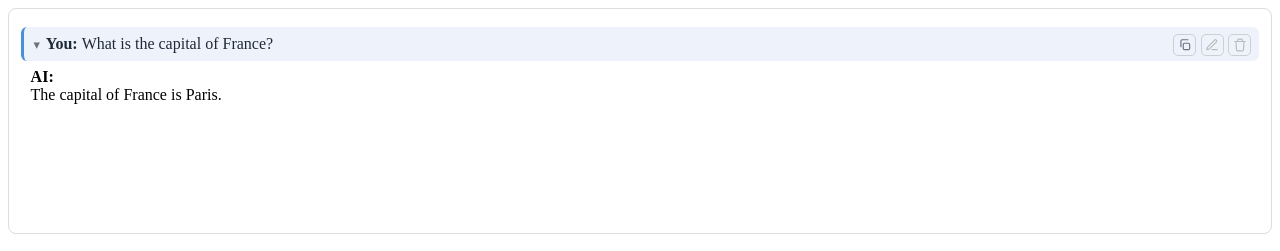
it: collapsing a question folds the whole turn: the following assistant answer is hidden
This screenshot has width=1280, height=251.
Check: the element with test id "msg-assistant" shows "The capital of France is Paris.", box [31,86,222,103]
// Collapse the question: the question preview shows, the whole assistant turn is hidden.
Click the button with test id "question-toggle" at [37, 46], box [34,39,40,52]
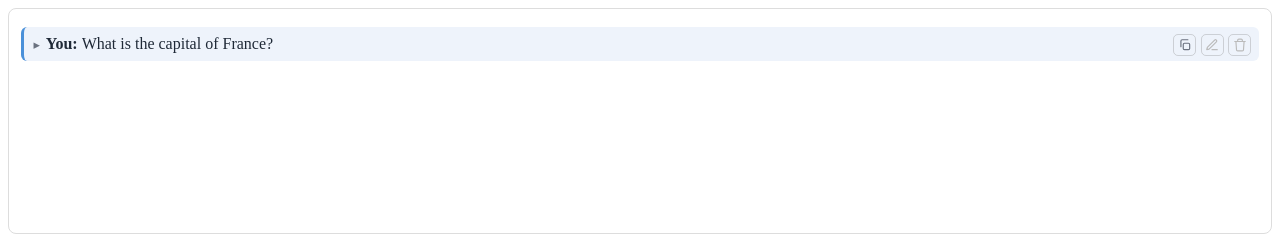
Check: the element with test id "msg-user" shows "What is the capital of France?", box [82,35,273,52]
Check: the element with test id "msg-assistant" is gone
// Expand again: the assistant answer returns.
Click the button with test id "question-toggle" at [37, 46], box [34,39,40,52]
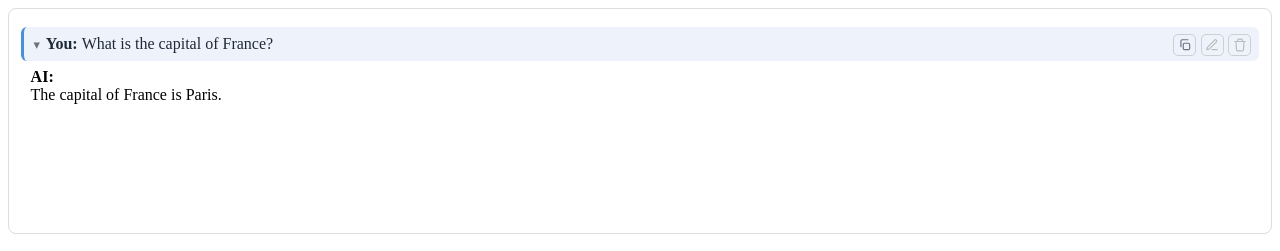
Check: the element with test id "msg-assistant" shows "The capital of France is Paris.", box [31,86,222,103]
